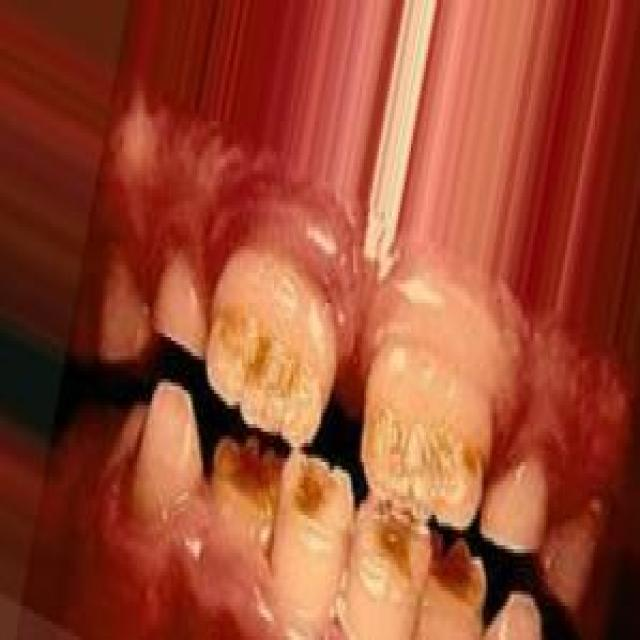caries: (358, 360, 485, 532), (202, 284, 326, 450), (351, 493, 431, 602), (206, 425, 281, 541), (281, 442, 350, 552), (428, 531, 493, 630)
